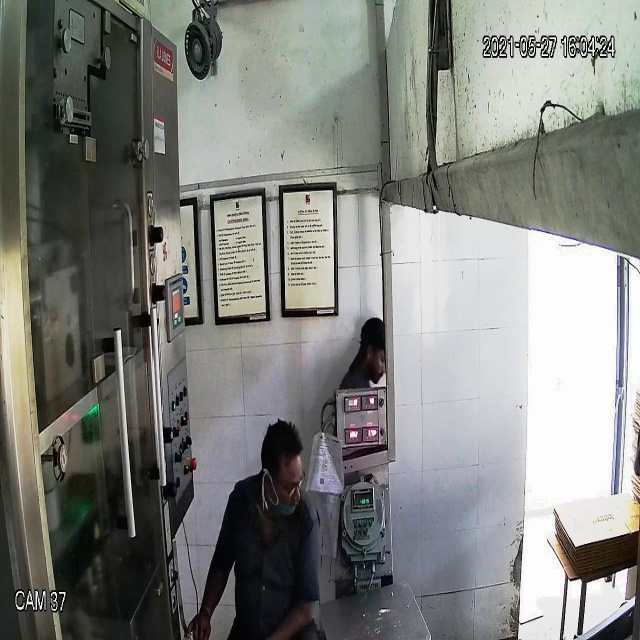Gafas: (260, 462, 309, 502)
